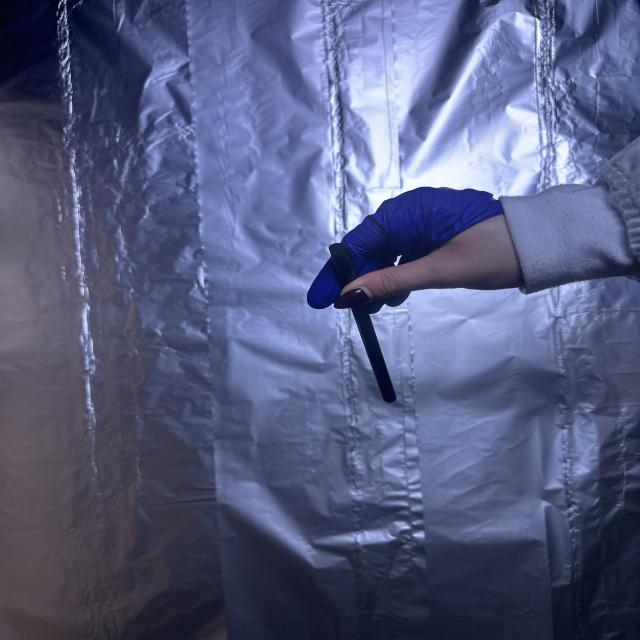glove_partial: (306, 182, 528, 315)
